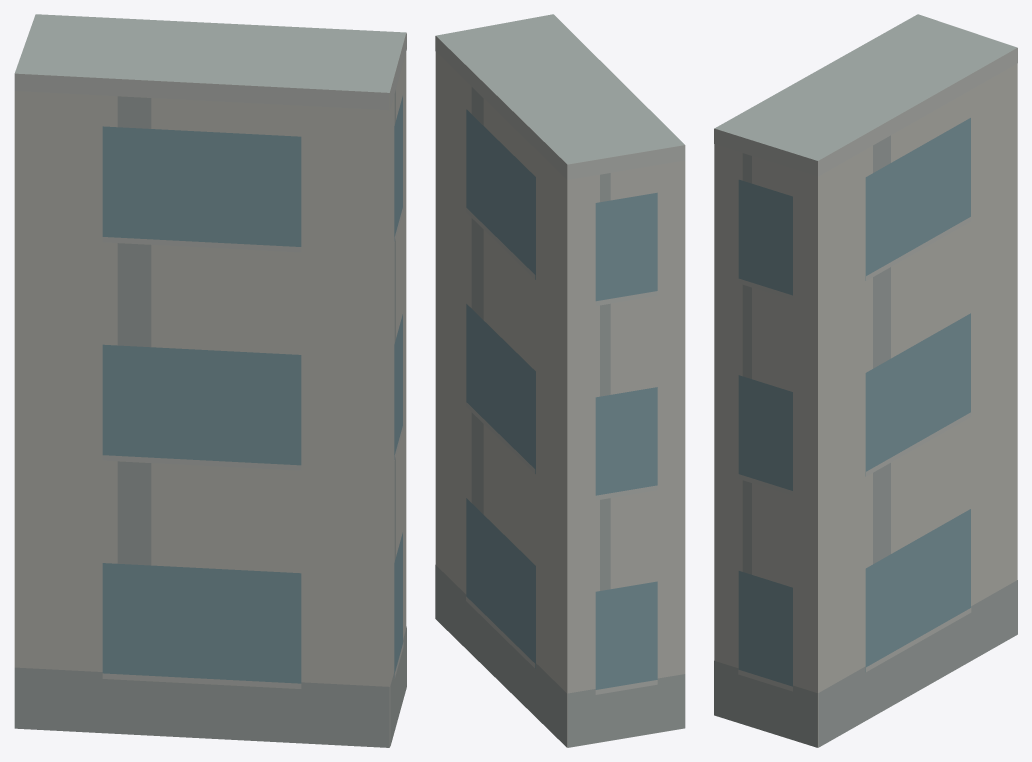
File: survey-upis-32571553.glb
3 views of the same model, side by side, from view 1: azimuth 30°, elevation 25°; view 2: azimuth 150°, elevation 25°; view 3: azimuth 270°, elevation 25° (orthographic). The views are drawn at different scales.
Parts seen in each view (by area): view 1: survey-upis-32571553.tmp; view 2: survey-upis-32571553.tmp; view 3: survey-upis-32571553.tmp.
Boxes of the visible parts, x1=… form: survey-upis-32571553.tmp: x1=14, y1=14, x2=406, y2=747; survey-upis-32571553.tmp: x1=435, y1=14, x2=685, y2=747; survey-upis-32571553.tmp: x1=714, y1=14, x2=1017, y2=747.
Bounding box in the file's own units: 4.92 × 9.15 × 4.3.
